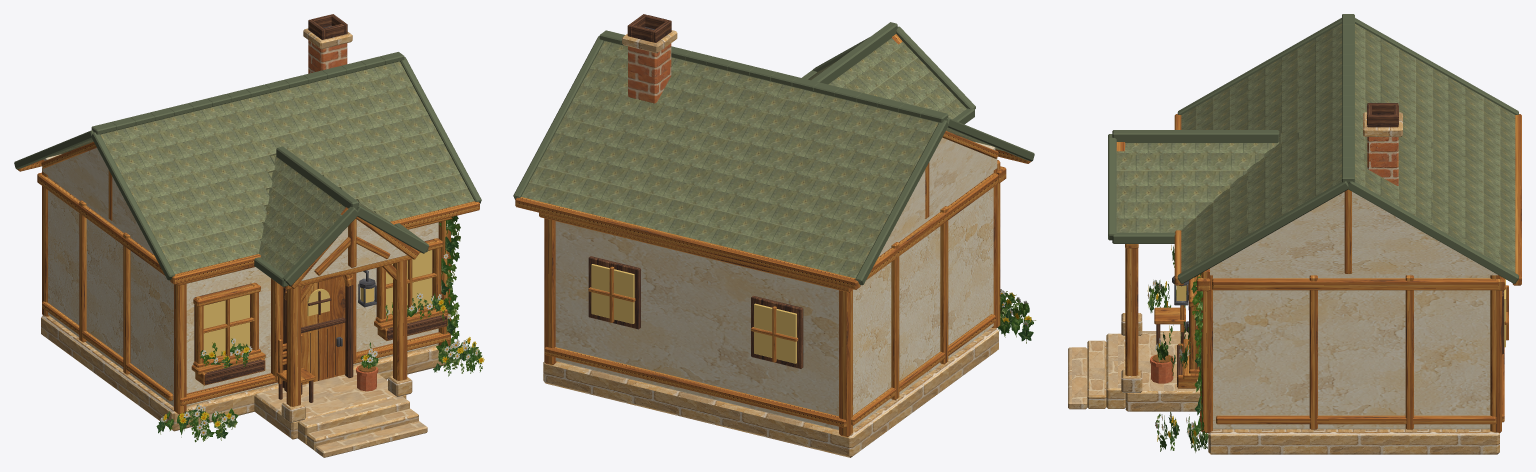
The model's file is HouseCozy_Lv1_LOD0.fbx.
The picture shows the model from 3 angles, left to right: view 1: azimuth 30°, elevation 25°; view 2: azimuth 150°, elevation 25°; view 3: azimuth 270°, elevation 25°; orthographic projection. The views are drawn at different scales.
Visible parts, largest first — view 1: HouseCozy_Lv1_LOD0; view 2: HouseCozy_Lv1_LOD0; view 3: HouseCozy_Lv1_LOD0.
Part boxes in pixels (x1=…): HouseCozy_Lv1_LOD0: x1=14, y1=14, x2=484, y2=457; HouseCozy_Lv1_LOD0: x1=513, y1=14, x2=1035, y2=457; HouseCozy_Lv1_LOD0: x1=1068, y1=14, x2=1521, y2=454.
Bounding box in the file's own units: 10.71 × 9.29 × 11.82.
